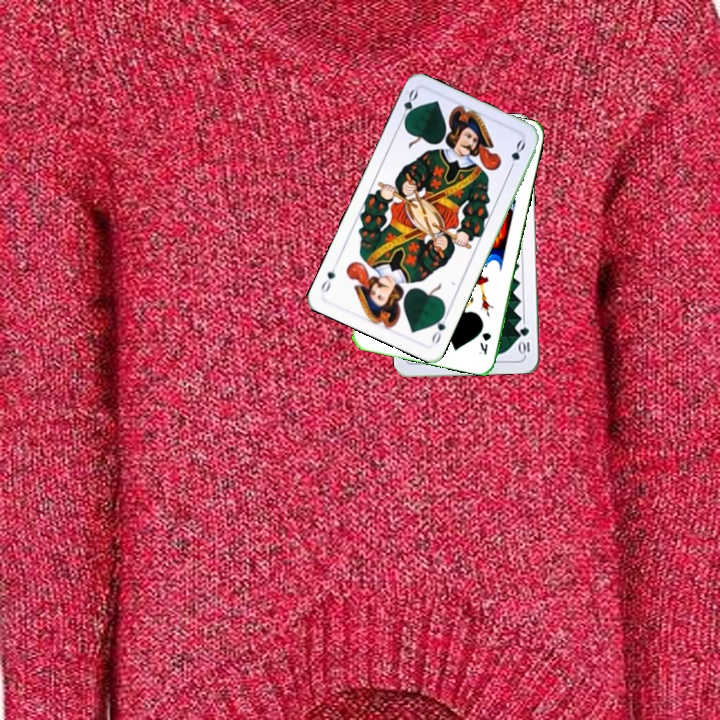G10: (516, 323, 532, 357)
GK: (475, 328, 494, 358)
GO: (396, 86, 421, 126), (427, 307, 451, 347)
